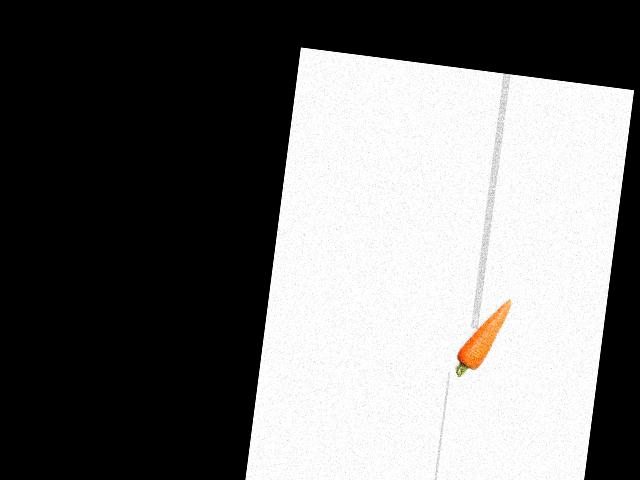carrot: (452, 292, 513, 382)
